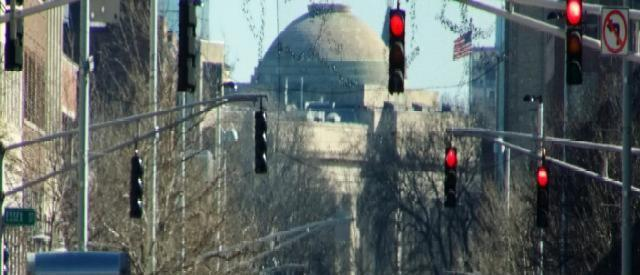red_light: (566, 0, 583, 84), (389, 8, 405, 92), (536, 166, 550, 226), (444, 147, 458, 207)
